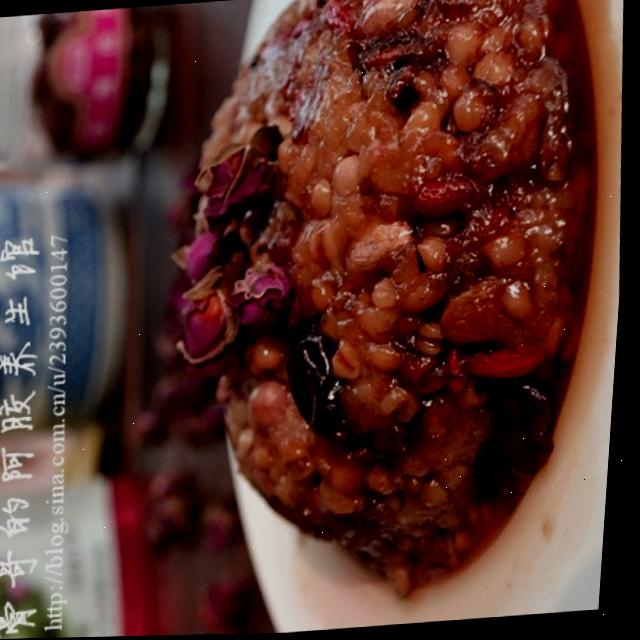米饭主食: (123, 0, 622, 614)
